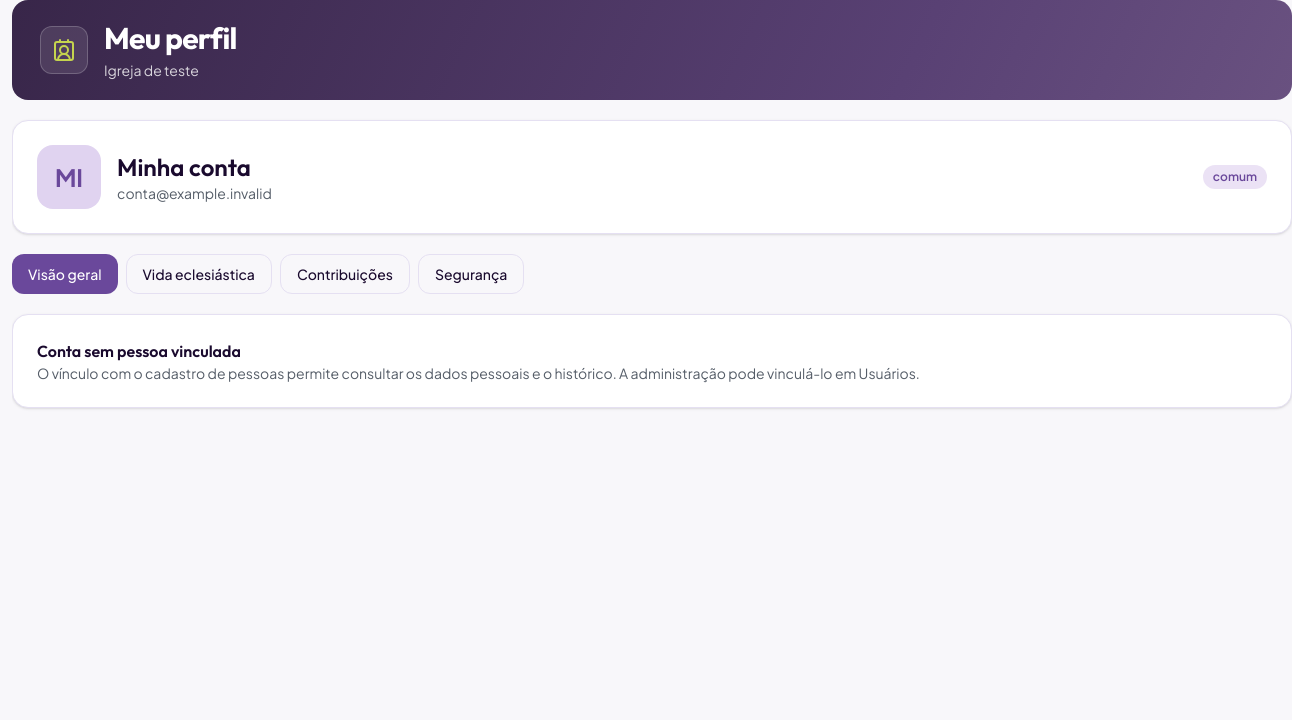
Test: mantém as seções e a segurança para uma conta sem pessoa vinculada
This screenshot has width=1292, height=720.
Check: the heading "Conta sem pessoa vinculada" is shown, box [37, 341, 241, 361]
Check: the button "Vida eclesiástica" is shown, box [126, 254, 272, 294]
Click the button "Segurança" at (471, 274), box [418, 254, 524, 294]
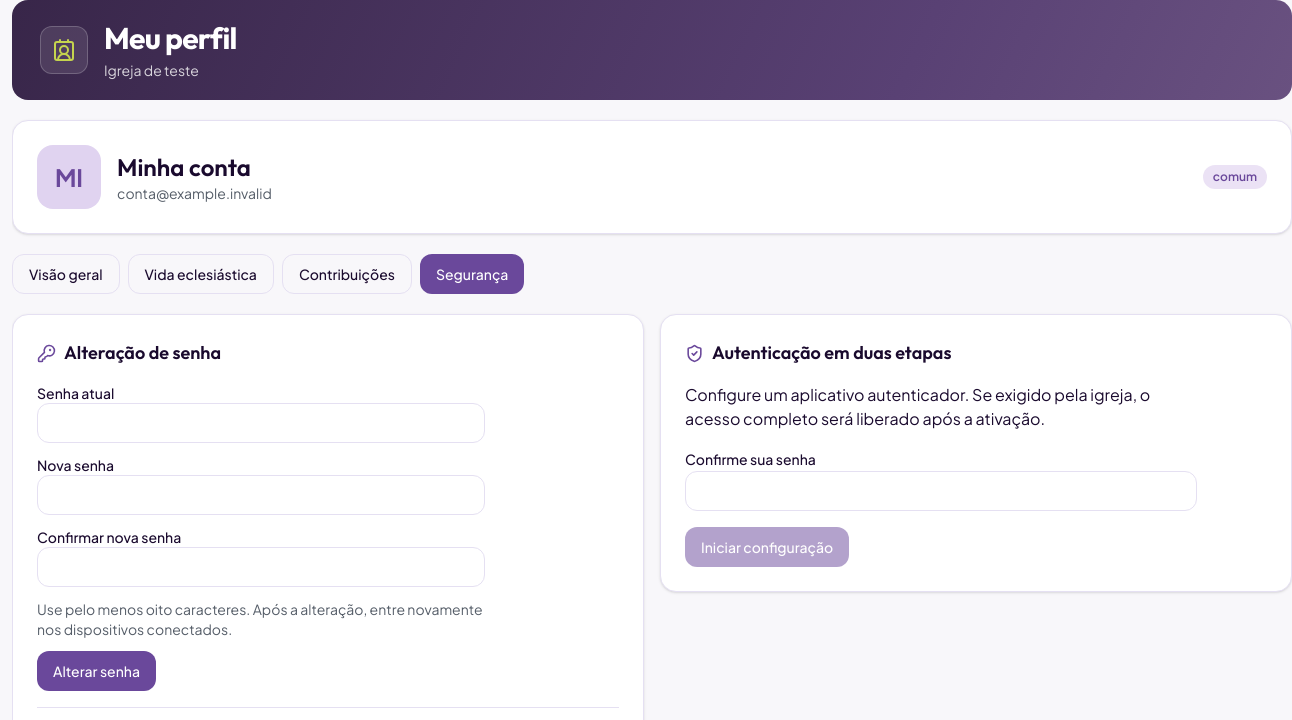
Check: the button "Alterar senha" is shown, box [37, 651, 156, 691]
Check: the button "Iniciar configuração" is shown, box [685, 527, 849, 567]
